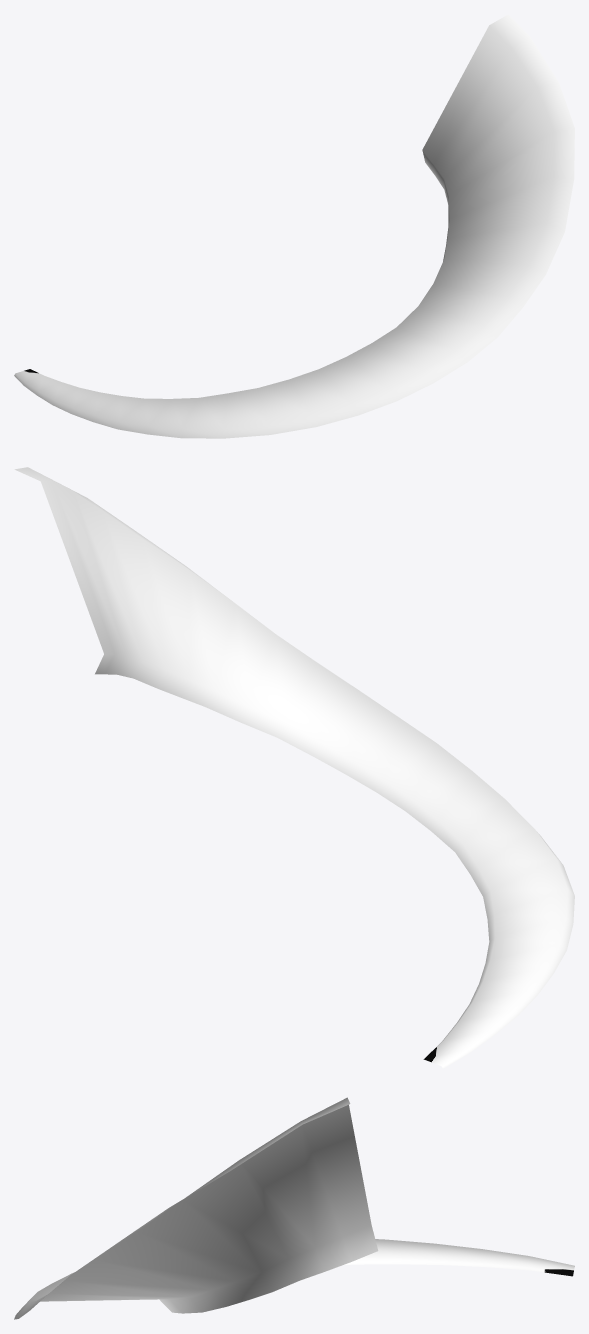
File: VFX_BossNormalAttack_R.fbx
The picture shows the model from 3 angles, top to bottom: view 1: azimuth 30°, elevation 25°; view 2: azimuth 150°, elevation 25°; view 3: azimuth 270°, elevation 25°; orthographic projection. The views are drawn at different scales.
Visible parts, largest first — view 1: vfx_NormalAttack_R; view 2: vfx_NormalAttack_R; view 3: vfx_NormalAttack_R.
Part boxes in pixels (x1,y1,x2,y2): vfx_NormalAttack_R: [14, 14, 574, 438]; vfx_NormalAttack_R: [14, 467, 574, 1068]; vfx_NormalAttack_R: [14, 1097, 574, 1319].
Size of the model in its own units: 1361 by 940 by 1042.
